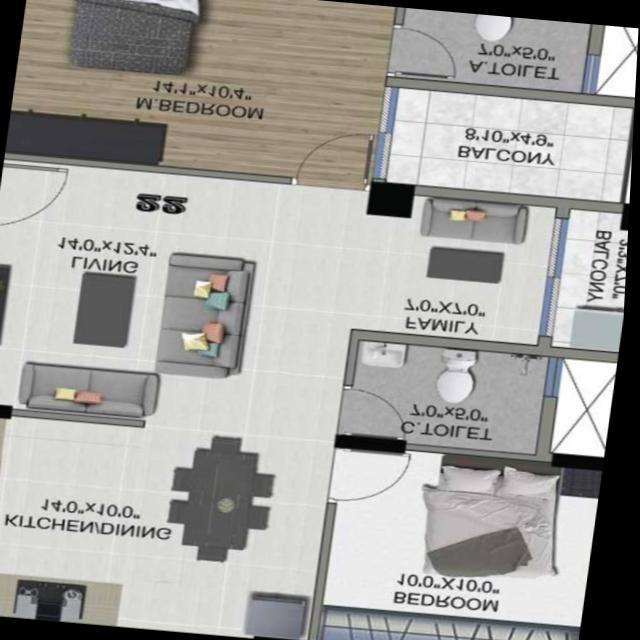Balcony-Sitout: (389, 88, 634, 202), (557, 207, 631, 351)
Bedroom: (327, 447, 609, 640)
Bedroom with Toilet: (7, 0, 598, 186)
Dining: (163, 426, 288, 566)
Enterance-Foyer: (0, 158, 86, 239)
Kitchen: (0, 418, 170, 625)
Living: (0, 159, 309, 429)
Toilet: (354, 339, 554, 451), (400, 7, 592, 91)
